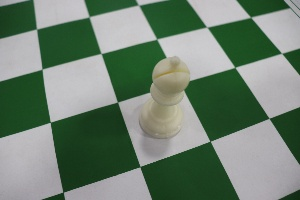white_bishop: (136, 40, 195, 147)
